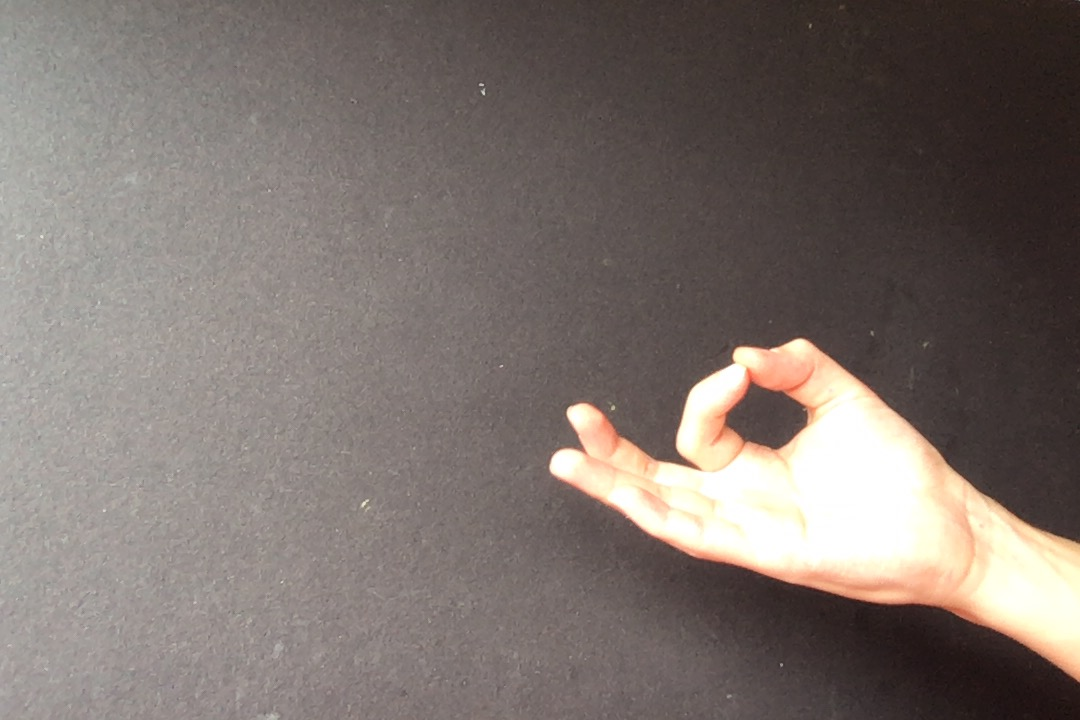oksign: (536, 335, 961, 624)
